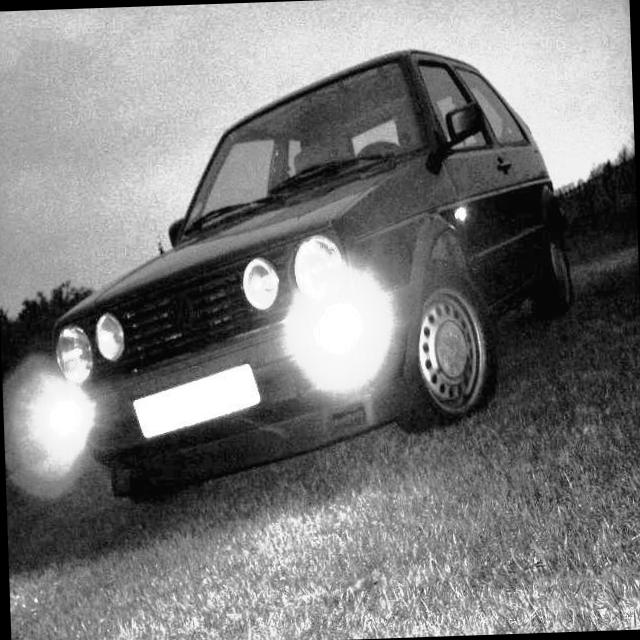Car: (0, 43, 589, 535)
